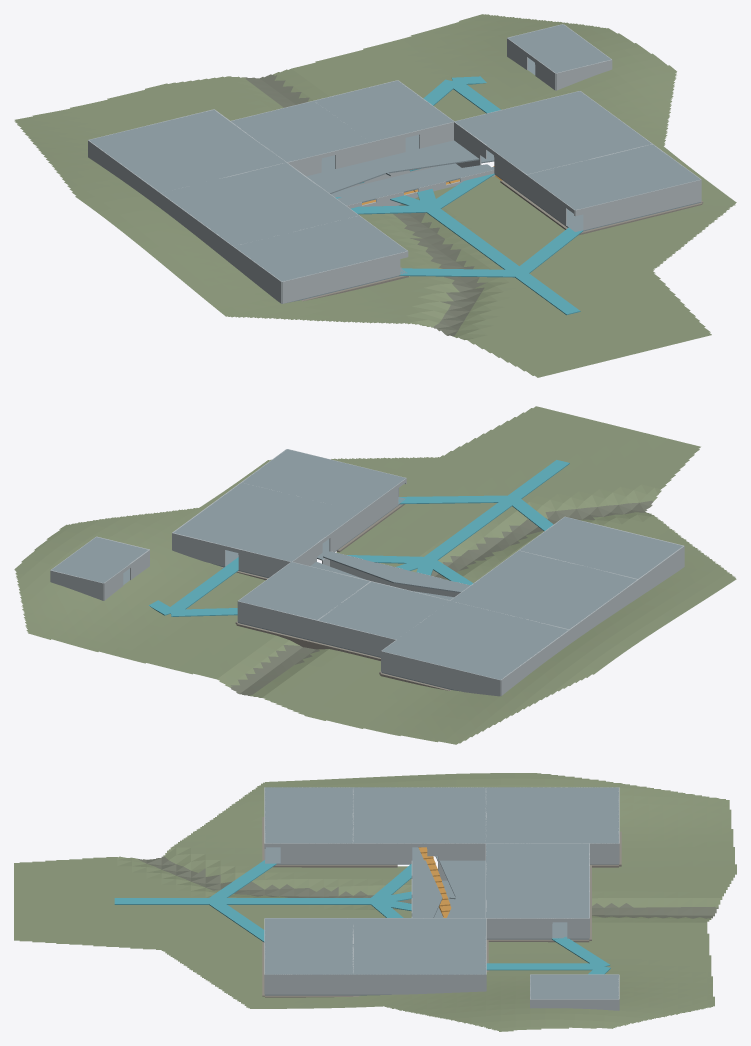
File: supported-arrival.glb
3 renders of one model, top to bottom at view 1: azimuth 30°, elevation 25°; view 2: azimuth 150°, elevation 25°; view 3: azimuth 270°, elevation 25°, orthographic. The views are drawn at different scales.
Visible parts, largest first — view 1: Saved editor macroterrain WLD-08, Ceiling cap lab, Ceiling cap dorm, Ceiling cap generator, Ceiling cap store, Ceiling cap mess, Ceiling cap radio, Ceiling cap records, Flat route shell Wall store S, Flat route shell Wall mess S, Ceiling cap shelter, Restored ceiling-cap tunnel 6 region1 (+18 smaller); view 2: Saved editor macroterrain WLD-08, Ceiling cap generator, Ceiling cap dorm, Ceiling cap lab, Ceiling cap mess, Ceiling cap store, Ceiling cap records, Ceiling cap radio, Wall generator N, Ceiling cap shelter, Restored ceiling-cap tunnel 6 region1, Wall records N (+13 smaller); view 3: Saved editor macroterrain WLD-08, Ceiling cap lab, Ceiling cap generator, Ceiling cap dorm, Ceiling cap store, Ceiling cap mess, Ceiling cap radio, Ceiling cap records, Wall dorm E, Ceiling cap shelter, Wall mess E, Wall store E (+16 smaller).
Boxes of the visible parts, x1,y1,x2,y2 form: Saved editor macroterrain WLD-08: [14, 14, 736, 377]; Ceiling cap lab: [161, 162, 358, 246]; Ceiling cap dorm: [454, 91, 651, 174]; Ceiling cap generator: [89, 109, 285, 192]; Ceiling cap store: [234, 216, 407, 281]; Ceiling cap mess: [527, 144, 700, 210]; Ceiling cap radio: [231, 101, 370, 162]; Ceiling cap records: [315, 80, 453, 141]; Flat route shell Wall store S: [282, 251, 407, 303]; Flat route shell Wall mess S: [575, 179, 701, 230]; Ceiling cap shelter: [508, 24, 610, 73]; Restored ceiling-cap tunnel 6 region1: [337, 164, 493, 205]; Saved editor macroterrain WLD-08: [14, 406, 736, 744]; Ceiling cap generator: [382, 601, 568, 679]; Ceiling cap dorm: [173, 483, 359, 561]; Ceiling cap lab: [450, 550, 636, 629]; Ceiling cap mess: [242, 449, 405, 511]; Ceiling cap store: [519, 517, 682, 578]; Ceiling cap records: [238, 562, 369, 619]; Ceiling cap radio: [318, 581, 449, 639]; Wall generator N: [381, 651, 500, 696]; Ceiling cap shelter: [51, 537, 148, 583]; Restored ceiling-cap tunnel 6 region1: [323, 551, 469, 592]; Wall records N: [237, 601, 317, 641]; Saved editor macroterrain WLD-08: [14, 773, 736, 1031]; Ceiling cap lab: [353, 787, 485, 843]; Ceiling cap generator: [486, 787, 618, 843]; Ceiling cap dorm: [353, 918, 485, 974]; Ceiling cap store: [265, 787, 353, 843]; Ceiling cap mess: [265, 918, 353, 974]; Ceiling cap radio: [486, 843, 589, 880]; Ceiling cap records: [486, 881, 589, 918]; Wall dorm E: [353, 974, 485, 994]; Ceiling cap shelter: [530, 974, 618, 999]; Wall mess E: [265, 974, 353, 994]; Wall store E: [280, 843, 353, 863].
Size of the model in its own units: 83 by 5.66 by 98.
